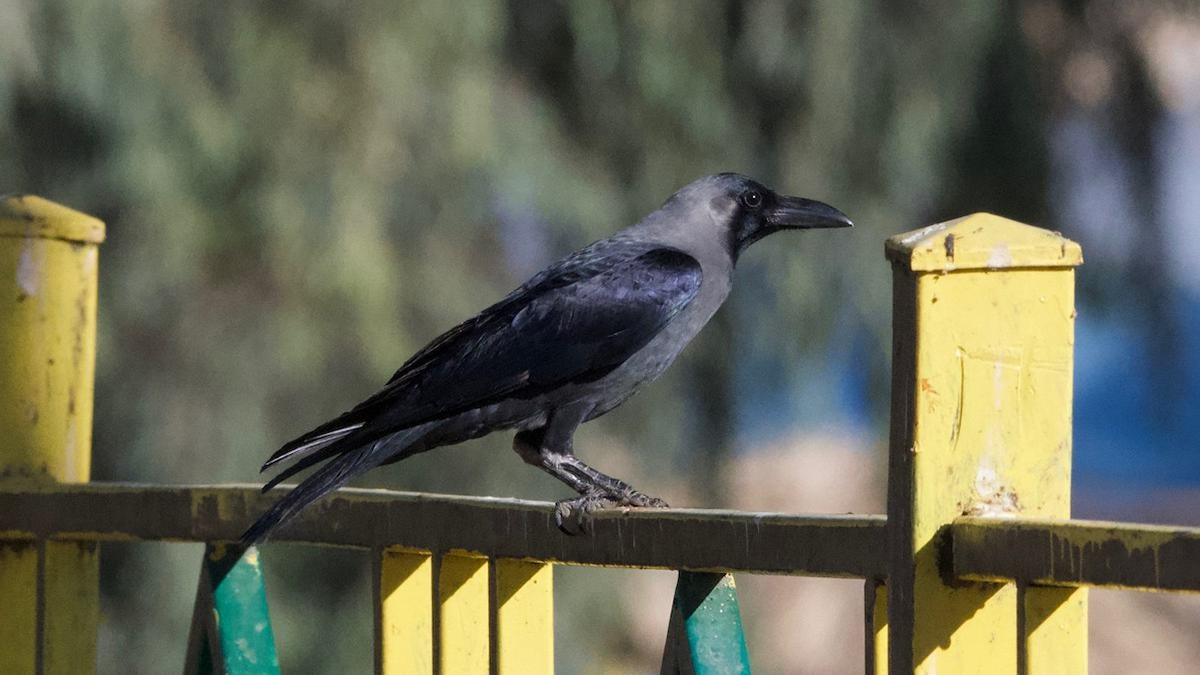crow: (247, 155, 870, 562)
